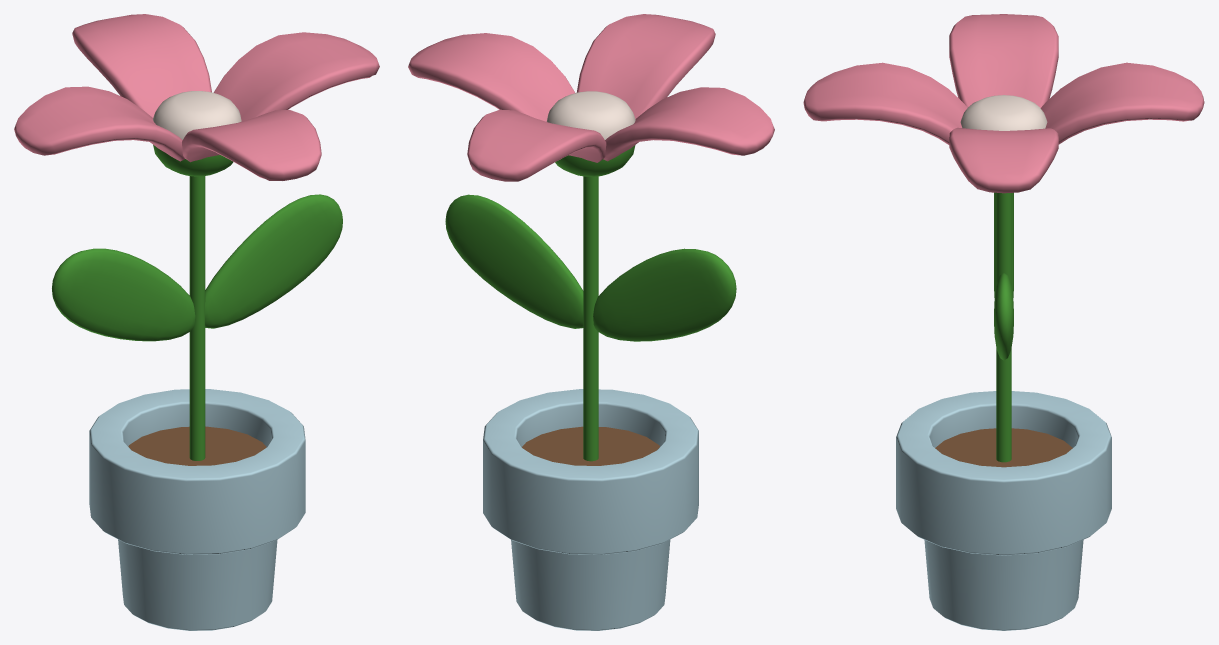
Rendered from Flower_8.glb.
The picture shows the model from 3 angles, left to right: view 1: azimuth 30°, elevation 25°; view 2: azimuth 150°, elevation 25°; view 3: azimuth 270°, elevation 25°; orthographic projection.
Parts seen in each view (by area): view 1: Flower_7; view 2: Flower_7; view 3: Flower_7.
Boxes of the visible parts, x1,y1,x2,y2 form: Flower_7: [14, 14, 379, 630]; Flower_7: [408, 14, 774, 630]; Flower_7: [803, 14, 1204, 630].
Size of the model in its own units: 0.3988 by 0.5663 by 0.3988.
Materials: 1 (1 with a texture image).
